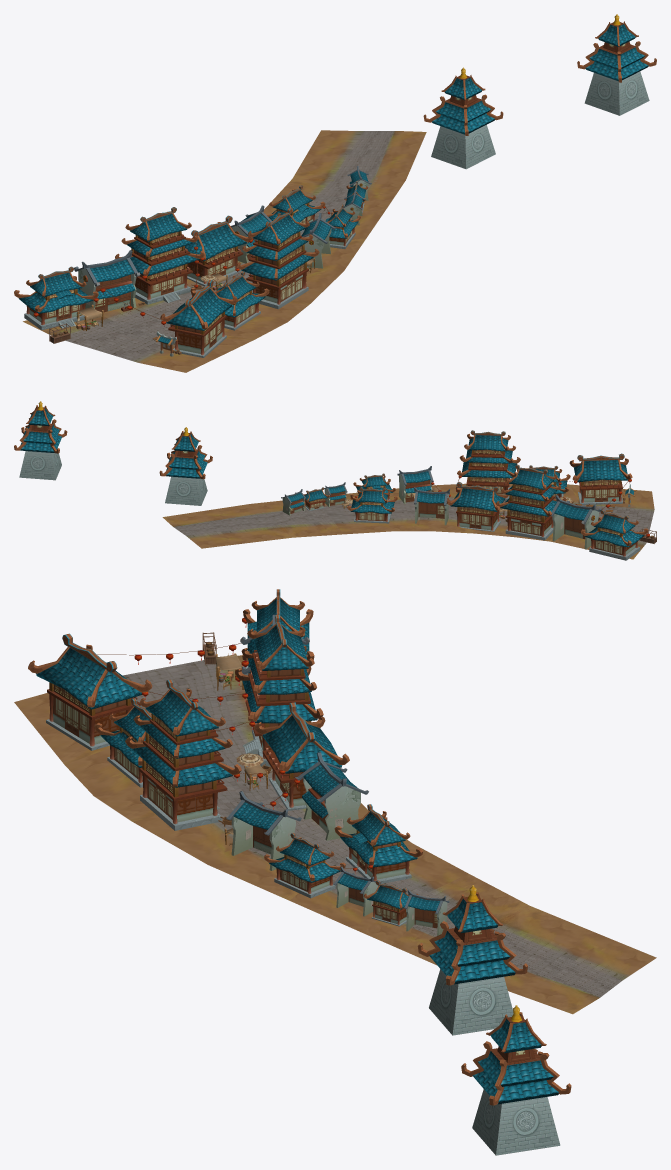
File: city_all.FBX
The picture shows the model from 3 angles, top to bottom: view 1: azimuth 30°, elevation 25°; view 2: azimuth 150°, elevation 25°; view 3: azimuth 270°, elevation 25°; orthographic projection. The views are drawn at different scales.
Visible parts, largest first — view 1: city_dimian, city_zhenrong, city_fangzi04, city_fangzi13, city_fangzi14, city_fangzi02, city_fangzi01, city_wujiangge, city_fangzi12, city_wujian, city_fangzi03, city_fangzi10 (+3 smaller); view 2: city_dimian, city_zhenrong, city_fangzi04, city_fangzi13, city_fangzi14, city_fangzi02, city_fangzi12, city_fangzi01, city_wujiangge, city_fangzi10, city_fangzi11, city_fangzi05 (+6 smaller); view 3: city_dimian, city_fangzi04, city_fangzi14, city_fangzi13, city_fangzi02, city_zhenrong, city_fangzi12, city_fangzi10, city_fangzi11, city_fangzi05, city_wujian, city_fangzi06 (+5 smaller).
Boxes of the visible parts, left/top/right/bottom form: city_dimian: left=23, top=130, right=426, bottom=372; city_zhenrong: left=115, top=207, right=204, bottom=304; city_fangzi04: left=236, top=208, right=319, bottom=309; city_fangzi13: left=423, top=67, right=503, bottom=169; city_fangzi14: left=577, top=14, right=656, bottom=115; city_fangzi02: left=160, top=279, right=238, bottom=357; city_fangzi01: left=14, top=266, right=98, bottom=330; city_wujiangge: left=74, top=250, right=140, bottom=312; city_fangzi12: left=185, top=215, right=252, bottom=286; city_wujian: left=33, top=206, right=330, bottom=354; city_fangzi03: left=215, top=271, right=269, bottom=330; city_fangzi10: left=263, top=185, right=325, bottom=233; city_dimian: left=162, top=483, right=654, bottom=559; city_zhenrong: left=495, top=464, right=566, bottom=540; city_fangzi04: left=457, top=430, right=520, bottom=501; city_fangzi13: left=159, top=427, right=212, bottom=505; city_fangzi14: left=14, top=401, right=67, bottom=480; city_fangzi02: left=569, top=453, right=632, bottom=504; city_fangzi12: left=446, top=482, right=508, bottom=531; city_fangzi01: left=581, top=509, right=648, bottom=560; city_wujiangge: left=550, top=495, right=601, bottom=549; city_fangzi10: left=347, top=487, right=397, bottom=523; city_fangzi11: left=413, top=487, right=450, bottom=525; city_fangzi05: left=397, top=466, right=433, bottom=503; city_dimian: left=14, top=655, right=656, bottom=1014; city_fangzi04: left=125, top=679, right=241, bottom=830; city_fangzi14: left=461, top=1005, right=571, bottom=1155; city_fangzi13: left=417, top=885, right=527, bottom=1035; city_fangzi02: left=28, top=633, right=152, bottom=750; city_zhenrong: left=235, top=614, right=323, bottom=766; city_fangzi12: left=254, top=702, right=349, bottom=810; city_fangzi10: left=334, top=804, right=423, bottom=883; city_fangzi11: left=295, top=752, right=368, bottom=840; city_fangzi05: left=226, top=791, right=301, bottom=870; city_wujian: left=97, top=618, right=372, bottom=873; city_fangzi06: left=264, top=833, right=345, bottom=898.
Size of the model in its own units: 374 by 197 by 46.66.
